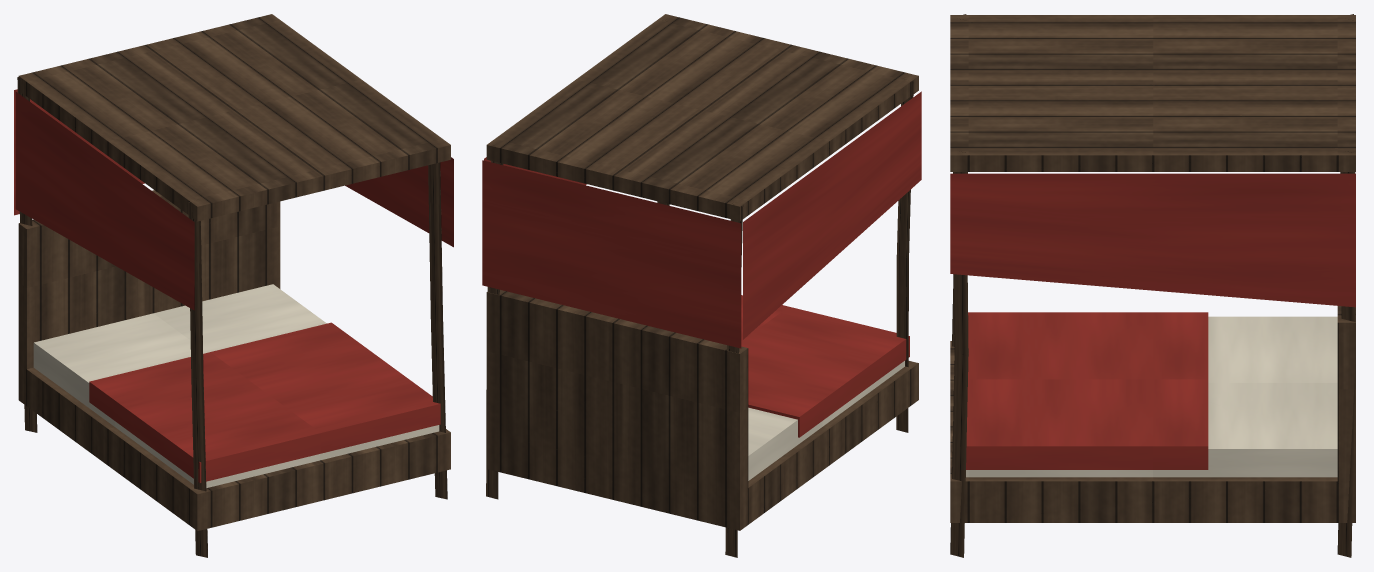
The model's file is Bed_Canopy_1_LOD2.gltf.
The picture shows the model from 3 angles, left to right: view 1: azimuth 30°, elevation 25°; view 2: azimuth 150°, elevation 25°; view 3: azimuth 270°, elevation 25°; orthographic projection. The views are drawn at different scales.
Visible parts, largest first — view 1: Bed_Canopy_1_LOD2; view 2: Bed_Canopy_1_LOD2; view 3: Bed_Canopy_1_LOD2.
Boxes of the visible parts, bbox=[...] form: Bed_Canopy_1_LOD2: bbox=[14, 14, 453, 557]; Bed_Canopy_1_LOD2: bbox=[482, 14, 921, 557]; Bed_Canopy_1_LOD2: bbox=[950, 14, 1355, 557].
Size of the model in its own units: 1.84 by 2.4 by 2.22.
Materials: 3 (3 with a texture image).
